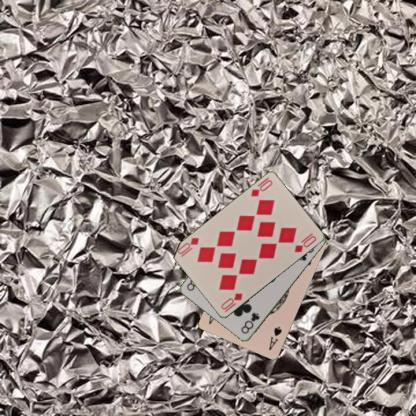10d: (219, 290, 244, 314), (248, 178, 274, 198)
8c: (238, 310, 262, 335)
As: (266, 323, 283, 352)
